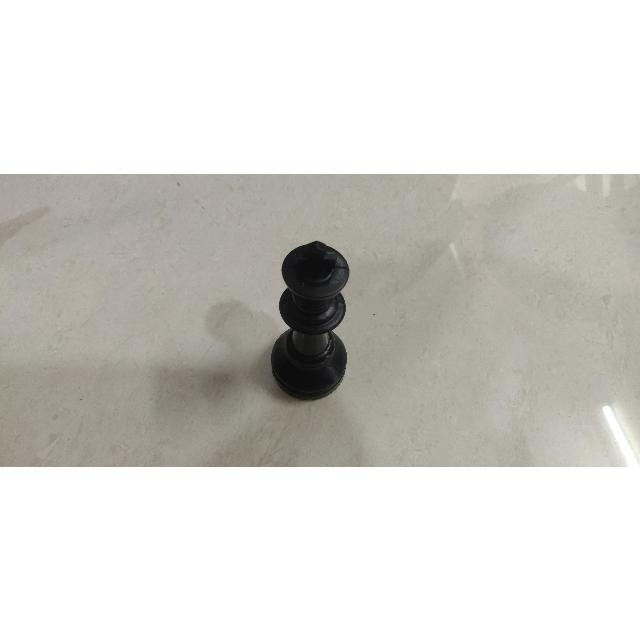black-king: (273, 229, 359, 409)
